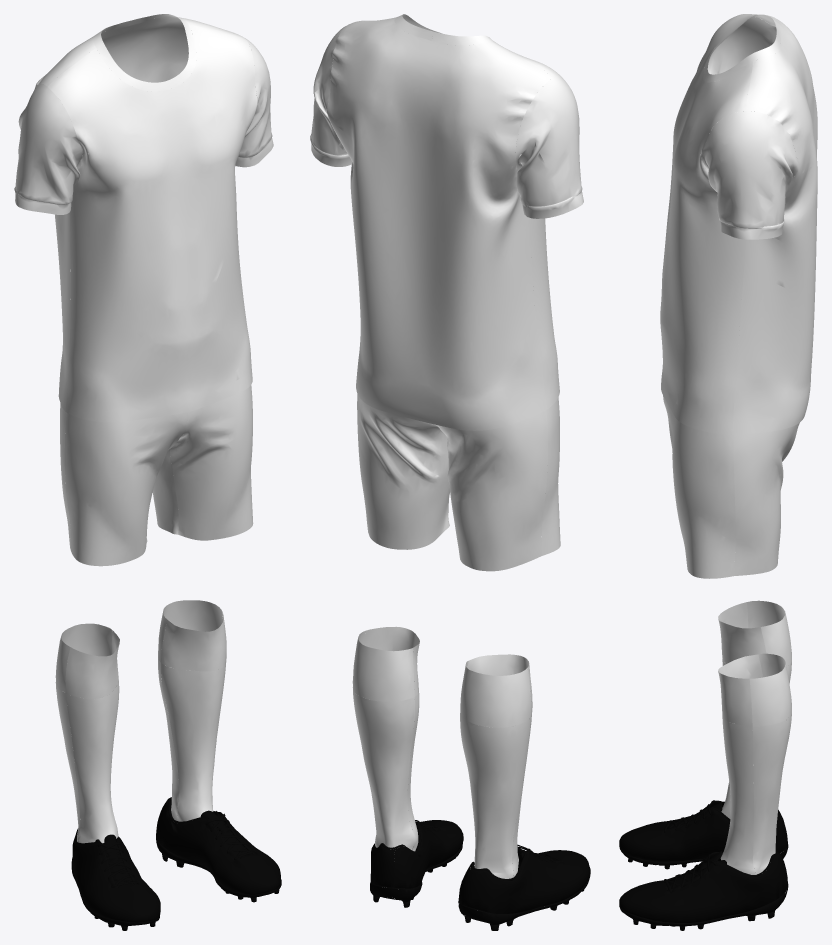
Rendered from pruebota.glb.
3 renders of one model, left to right at view 1: azimuth 30°, elevation 25°; view 2: azimuth 150°, elevation 25°; view 3: azimuth 270°, elevation 25°, orthographic. The views are drawn at different scales.
Visible parts, largest first — view 1: Body_Front_1_Node, 8_Node, Obj_Avatar_Shape_Node, 2_Node, Body_Back_2_Node, Pattern2D_3587_Node, Sleeves_3_Node, Pattern2D_3591_Node, Pattern2D_3610_Node, Pattern2D_3600_Node, Sleeves_6_Node, Ribbing_4_Node (+7 smaller); view 2: Body_Back_2_Node, 3_Node, Obj_Avatar_Shape_Node, 1_Node, Pattern2D_3601_Node, Sleeves_3_Node, Pattern2D_3593_Node, Pattern2D_3614_Node, Body_Front_1_Node, Pattern2D_3612_Node, 8_Node, Sleeves_6_Node (+5 smaller); view 3: Body_Front_1_Node, Body_Back_2_Node, Obj_Avatar_Shape_Node, Sleeves_6_Node, 2_Node, 1_Node, Pattern2D_3593_Node, Pattern2D_3587_Node, Pattern2D_3612_Node, Pattern2D_3610_Node, Sleeves_3_Node, Pattern2D_3600_Node (+3 smaller).
Boxes of the visible parts, x1,y1,x2,y2 form: Body_Front_1_Node: (47,24,257,422); 8_Node: (64,412,187,566); Obj_Avatar_Shape_Node: (71,797,281,930); 2_Node: (170,385,253,540); Body_Back_2_Node: (36,16,240,410); Pattern2D_3587_Node: (161,661,226,821); Sleeves_3_Node: (15,84,82,204); Pattern2D_3591_Node: (66,681,119,843); Pattern2D_3610_Node: (161,610,226,671); Pattern2D_3600_Node: (65,631,119,699); Sleeves_6_Node: (238,38,272,157); Ribbing_4_Node: (93,14,196,91); Body_Back_2_Node: (327,17,551,430); 3_Node: (436,410,547,571); Obj_Avatar_Shape_Node: (370,820,590,930); 1_Node: (357,394,449,549); Pattern2D_3601_Node: (460,713,530,878); Sleeves_3_Node: (515,75,582,206); Pattern2D_3593_Node: (352,687,414,849); Pattern2D_3614_Node: (460,661,531,727); Body_Front_1_Node: (347,20,560,408); Pattern2D_3612_Node: (352,631,414,701); 8_Node: (542,388,560,555); Sleeves_6_Node: (311,26,347,155); Body_Front_1_Node: (660,14,752,434); Body_Back_2_Node: (732,14,817,434); Obj_Avatar_Shape_Node: (619,800,788,930); Sleeves_6_Node: (700,111,798,228); 2_Node: (663,395,735,578); 1_Node: (733,423,799,575); Pattern2D_3593_Node: (752,713,791,874); Pattern2D_3587_Node: (720,716,755,874); Pattern2D_3612_Node: (749,653,791,726); Pattern2D_3610_Node: (718,654,762,726); Sleeves_3_Node: (707,16,776,74); Pattern2D_3600_Node: (718,602,766,663).
Size of the model in its own units: 513 by 1636 by 343.
9 materials, 7 textured.
